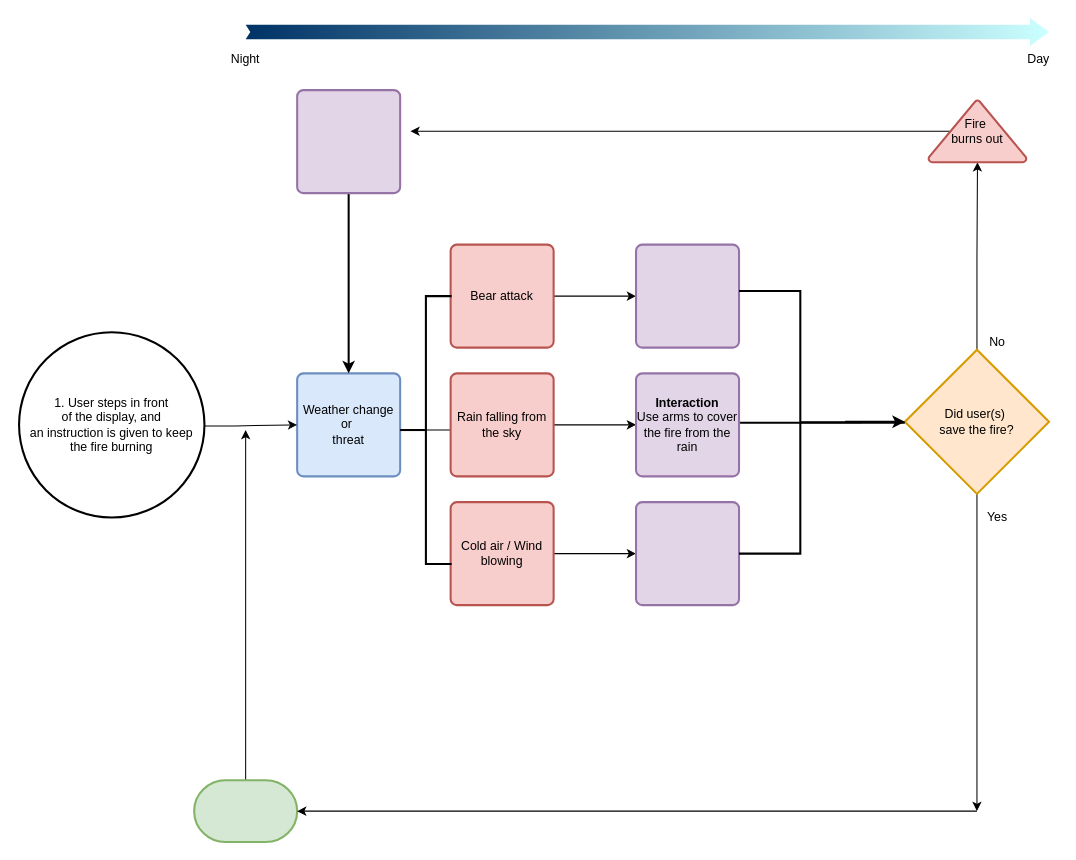
Some shapes in this 1076 by 860 pixel diagram are drawn without their labels. The centre of each missing label's shape, as x and y in pixels:
Interaction Collect wood and light up fire again: the point at 348,141
Interaction Crouch down to hide: the point at 687,295
Interaction Use hands or complete body to block the wind: the point at 687,553
Survival: the point at 245,811
